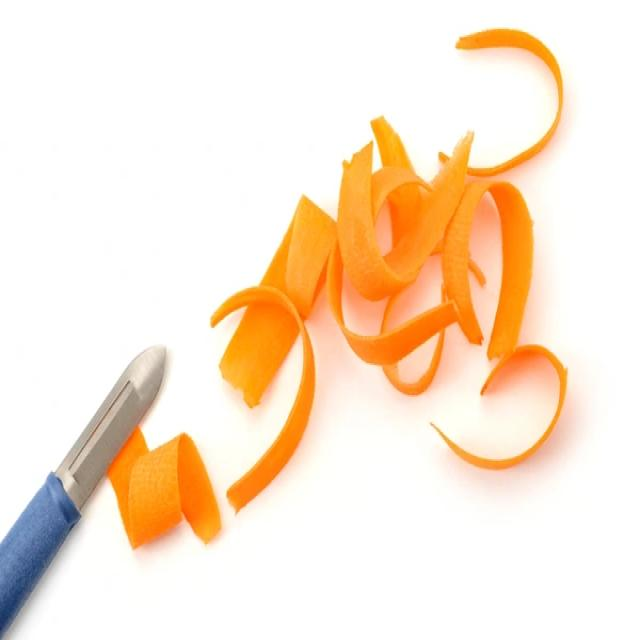organic: (218, 194, 339, 412), (340, 128, 486, 300), (212, 283, 318, 519), (436, 30, 564, 175), (429, 342, 572, 471), (443, 179, 538, 357), (107, 425, 224, 547)
